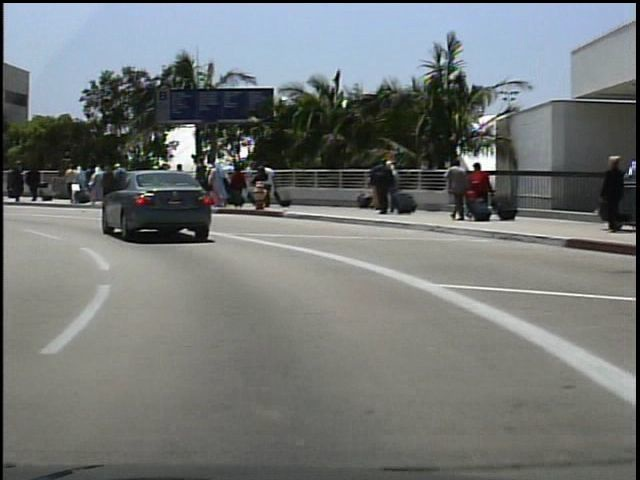person: (594, 151, 625, 234), (442, 156, 469, 224), (364, 157, 394, 217), (464, 159, 489, 219), (23, 162, 47, 207), (10, 157, 29, 202), (259, 159, 278, 195), (7, 164, 24, 203)
